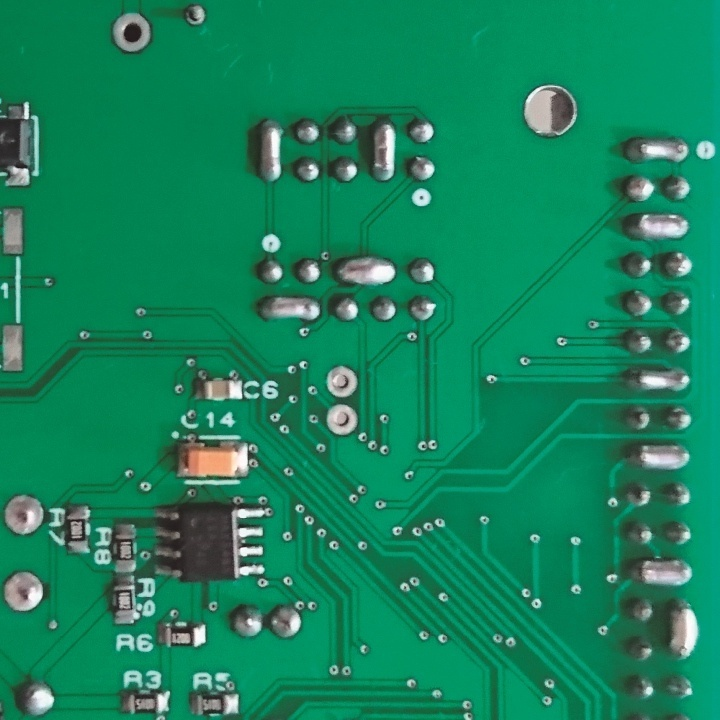F: (107, 9, 156, 58), (1, 492, 47, 539), (1, 570, 49, 615), (321, 401, 362, 439), (324, 362, 361, 400), (182, 1, 208, 32)
P: (619, 438, 697, 475), (663, 597, 706, 664), (626, 552, 699, 591), (253, 291, 324, 330), (621, 207, 696, 243), (618, 361, 695, 396), (330, 252, 400, 289), (619, 134, 693, 167), (369, 112, 397, 185), (256, 115, 284, 186)
